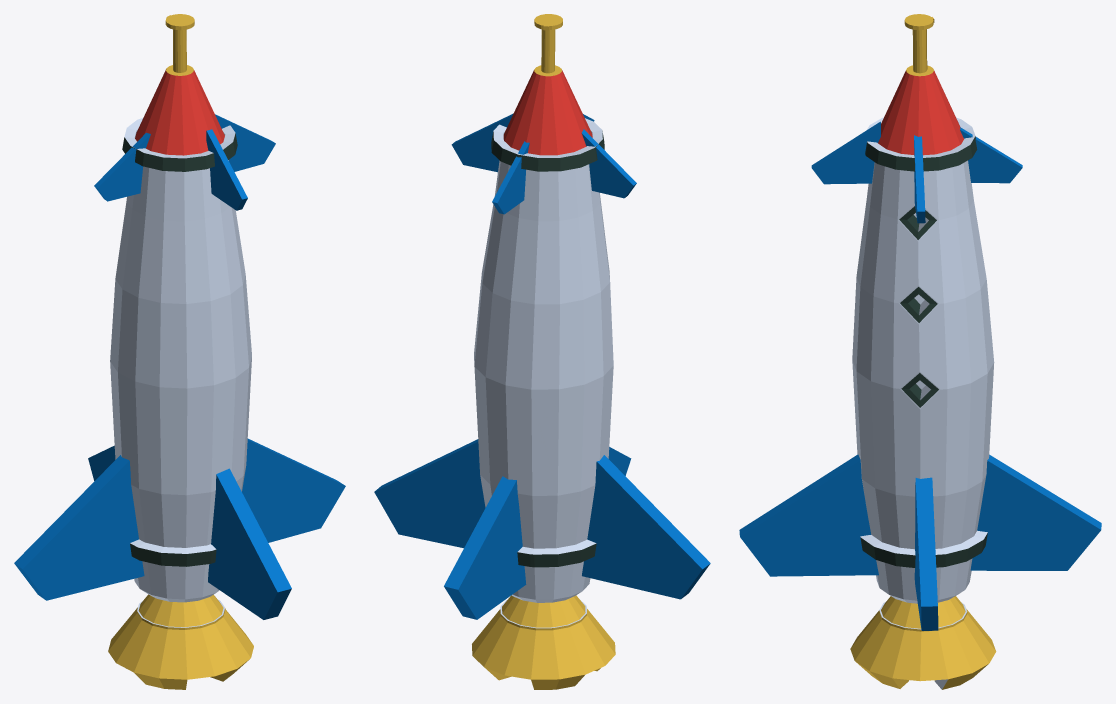
Rendered from rocket.glb.
The picture shows the model from 3 angles, left to right: view 1: azimuth 30°, elevation 25°; view 2: azimuth 150°, elevation 25°; view 3: azimuth 270°, elevation 25°; orthographic projection.
Parts seen in each view (by area): view 1: Cylinder, Cube.006, Cube.002, Cube.005, Cube.008, Cube.007, Cube.004, Cube.003; view 2: Cylinder, Cube.006, Cube.005, Cube.003, Cube.008, Cube.004, Cube.001; view 3: Cylinder, Cube.002, Cube.003, Cube.005, Cube.007, Cube.001, Cube.004.
Part boxes in pixels (bbox=[...]): Cylinder: bbox=[108, 14, 253, 689]; Cube.006: bbox=[14, 455, 144, 600]; Cube.002: bbox=[208, 468, 291, 619]; Cube.005: bbox=[242, 438, 345, 542]; Cube.008: bbox=[94, 132, 150, 201]; Cube.007: bbox=[206, 129, 247, 210]; Cube.004: bbox=[215, 114, 275, 171]; Cube.003: bbox=[88, 445, 115, 480]; Cylinder: bbox=[472, 14, 615, 689]; Cube.006: bbox=[582, 455, 710, 599]; Cube.005: bbox=[374, 439, 485, 548]; Cube.003: bbox=[444, 476, 526, 619]; Cube.008: bbox=[581, 129, 636, 198]; Cube.004: bbox=[451, 113, 513, 172]; Cube.001: bbox=[492, 141, 529, 214]; Cylinder: bbox=[850, 14, 996, 689]; Cube.002: bbox=[739, 454, 878, 576]; Cube.003: bbox=[970, 454, 1101, 570]; Cube.005: bbox=[914, 477, 938, 630]; Cube.007: bbox=[811, 121, 880, 184]; Cube.001: bbox=[960, 127, 1022, 183]; Cube.004: bbox=[914, 135, 925, 223].
Size of the model in its own units: 8.39 by 15.9 by 8.07.
